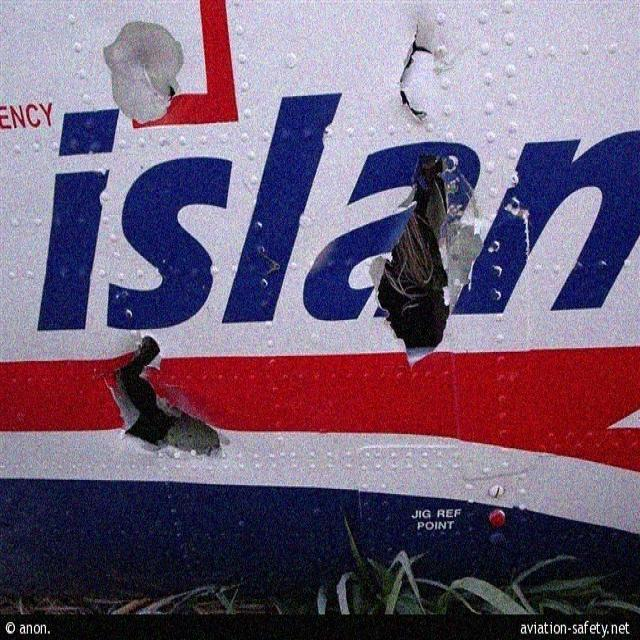crack: (370, 148, 487, 379), (108, 333, 229, 460), (394, 18, 452, 128), (137, 59, 180, 107)
